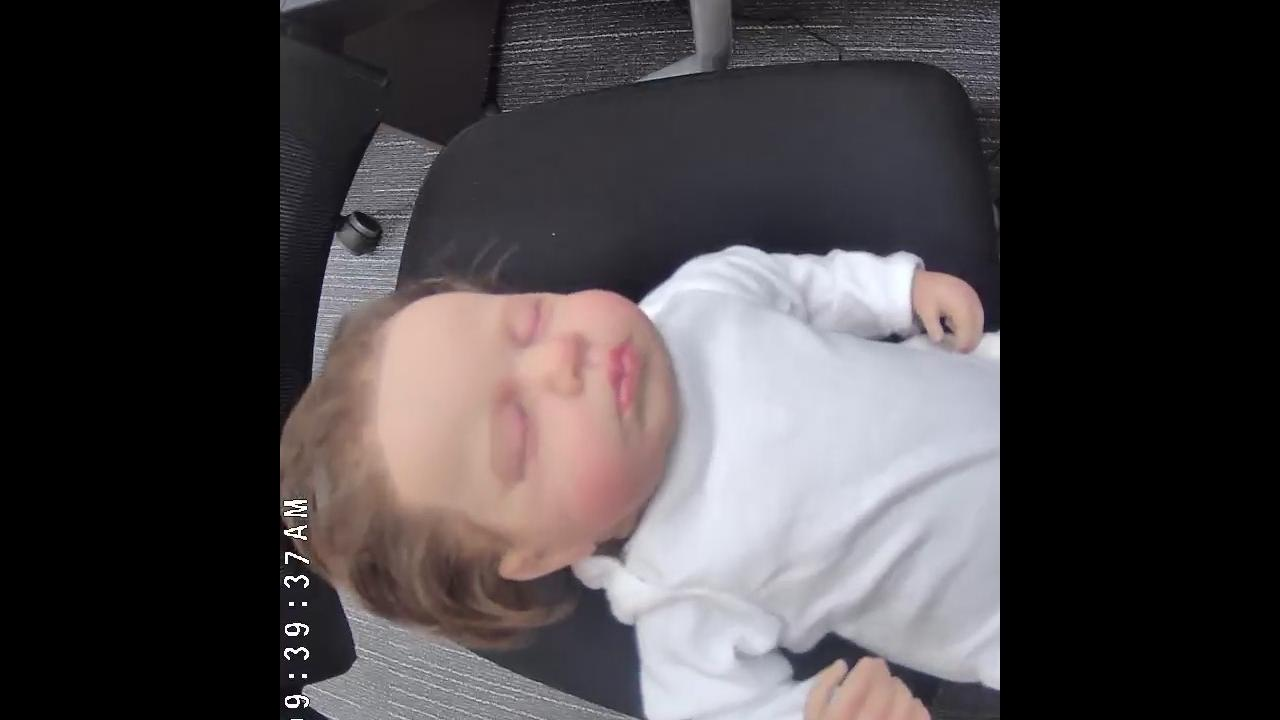hand: (802, 652, 933, 720), (913, 269, 988, 354)
